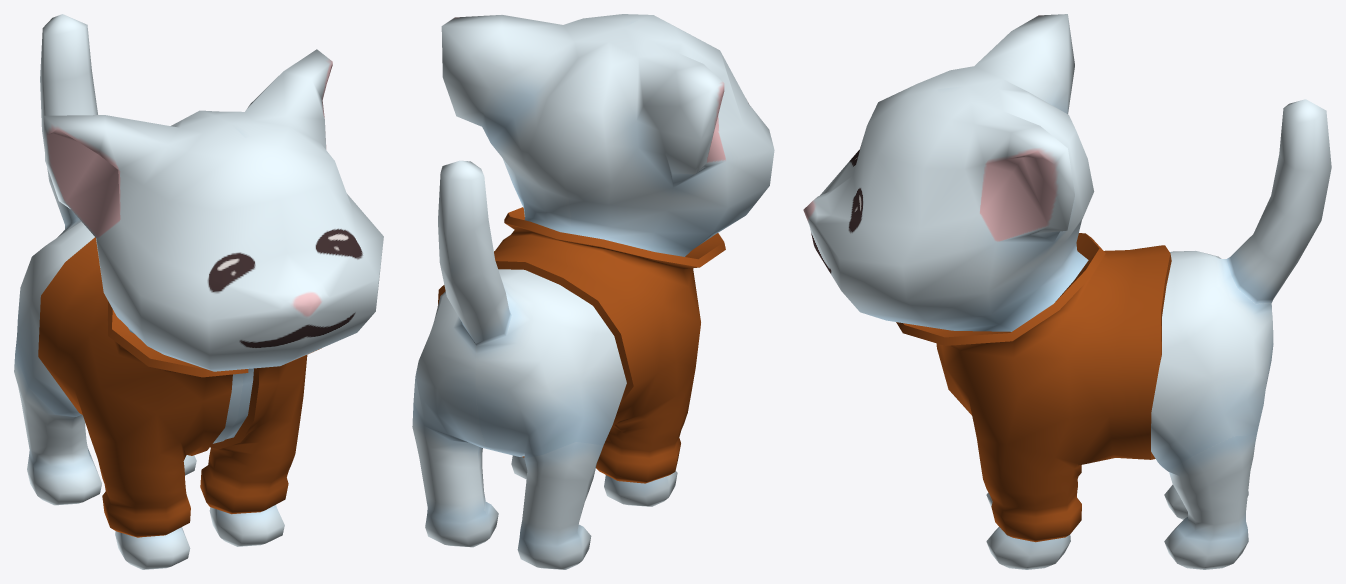
File: Varsity Cat05.fbx
The picture shows the model from 3 angles, left to right: view 1: azimuth 30°, elevation 25°; view 2: azimuth 150°, elevation 25°; view 3: azimuth 270°, elevation 25°; orthographic projection. The views are drawn at different scales.
Parts seen in each view (by area): view 1: Cat_Base004, Varsity_Cat_Jersey; view 2: Cat_Base004, Varsity_Cat_Jersey; view 3: Cat_Base004, Varsity_Cat_Jersey.
Boxes of the visible parts, x1=… form: Cat_Base004: x1=14, y1=14, x2=383, y2=569; Varsity_Cat_Jersey: x1=38, y1=237, x2=321, y2=537; Cat_Base004: x1=412, y1=14, x2=774, y2=569; Varsity_Cat_Jersey: x1=438, y1=207, x2=725, y2=483; Cat_Base004: x1=803, y1=14, x2=1331, y2=569; Varsity_Cat_Jersey: x1=896, y1=233, x2=1171, y2=542.
Size of the model in its own units: 1.75 by 2.83 by 2.68.
Materials: 2 (1 with a texture image).
